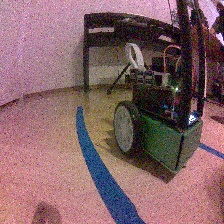rob: (111, 55, 204, 174)
